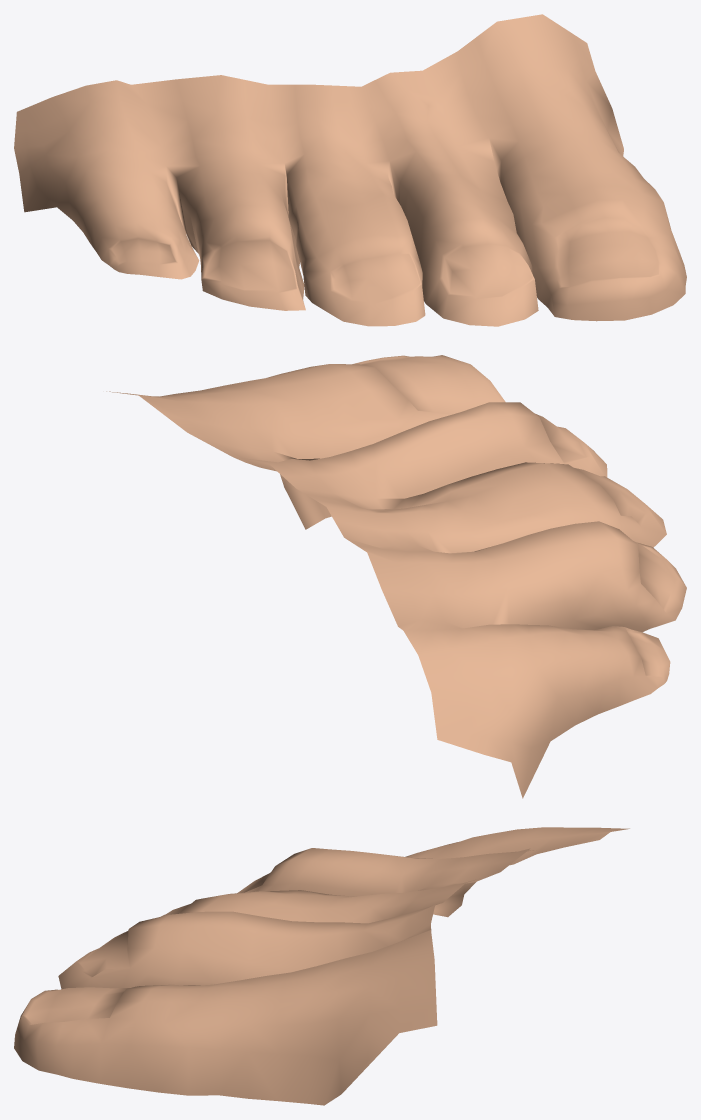
The model's file is dorsal-surfaces-of-digits-of-foot-r.glb.
3 renders of one model, top to bottom at view 1: azimuth 30°, elevation 25°; view 2: azimuth 150°, elevation 25°; view 3: azimuth 270°, elevation 25°, orthographic. The views are drawn at different scales.
Visible parts, largest first — view 1: Dorsal surfaces of digits of foot.r; view 2: Dorsal surfaces of digits of foot.r; view 3: Dorsal surfaces of digits of foot.r.
Part boxes in pixels (x1,y1,x2,y2): Dorsal surfaces of digits of foot.r: [14, 14, 686, 326]; Dorsal surfaces of digits of foot.r: [106, 355, 686, 798]; Dorsal surfaces of digits of foot.r: [14, 827, 629, 1105].
Size of the model in its own units: 0.0865 by 0.0267 by 0.0983.
